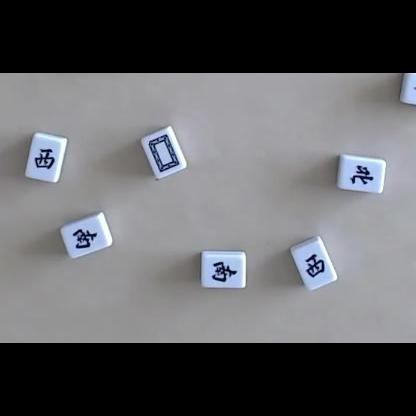2z: (73, 227, 97, 250), (212, 261, 237, 283)
3z: (305, 252, 326, 279), (34, 148, 55, 169)
4z: (351, 164, 374, 185)
5z: (149, 135, 180, 173)
